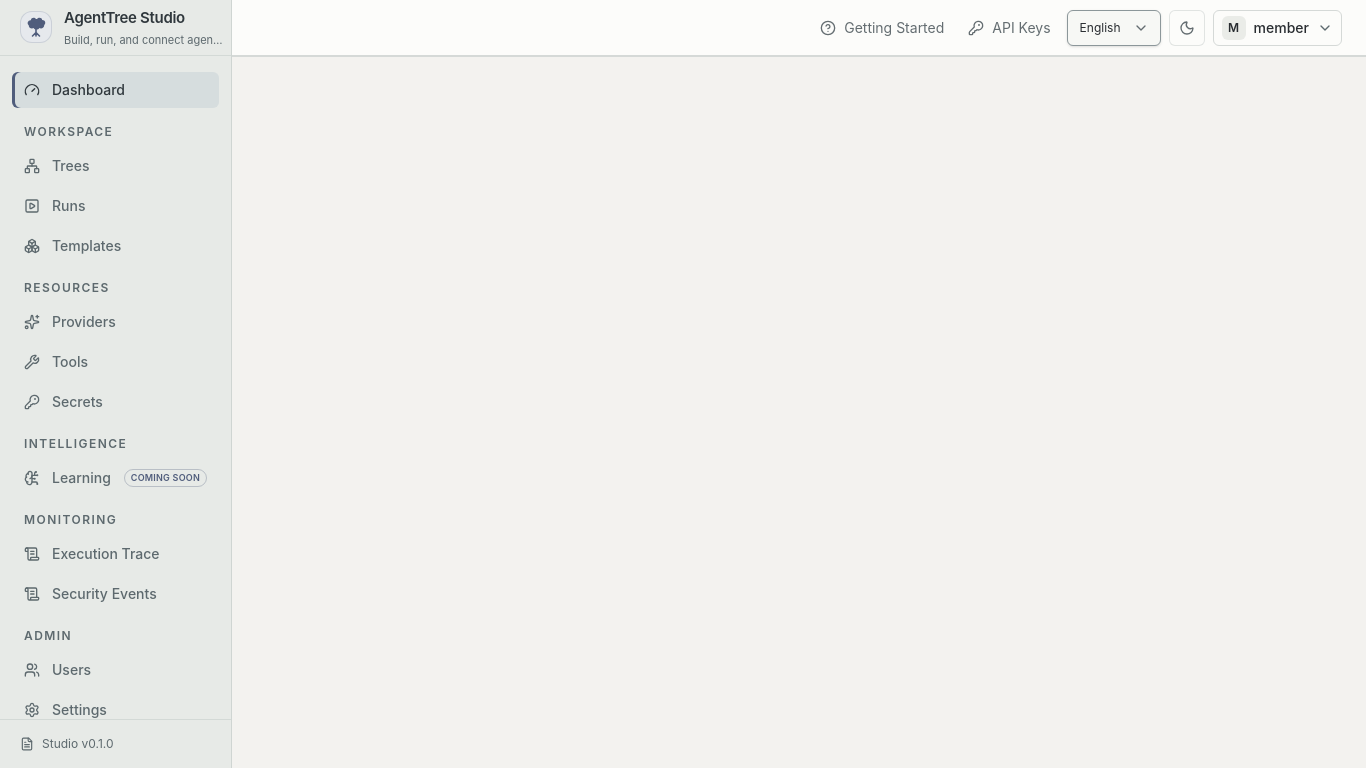
Test: Studio authentication UI › shows Admin navigation and signs out to Login
Check: the text "Studio content" is shown, box [0, 58, 110, 78]
Check: the link "Users" is shown, box [24, 661, 91, 678]
Click the button with aria-label "Account menu" at {"x": 1277, "y": 28}, box [1213, 10, 1342, 46]
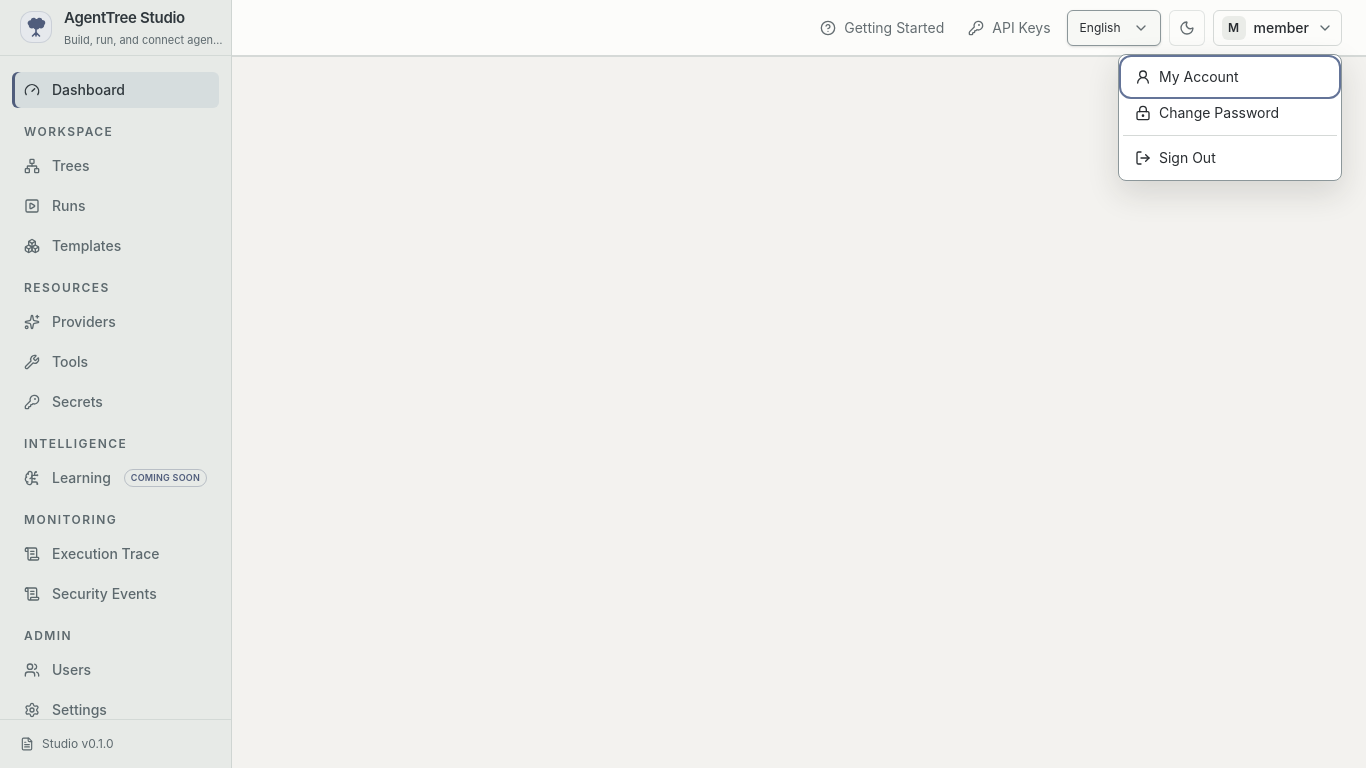
Click the menu item "Sign Out" at {"x": 1230, "y": 158}, box [1123, 140, 1337, 176]
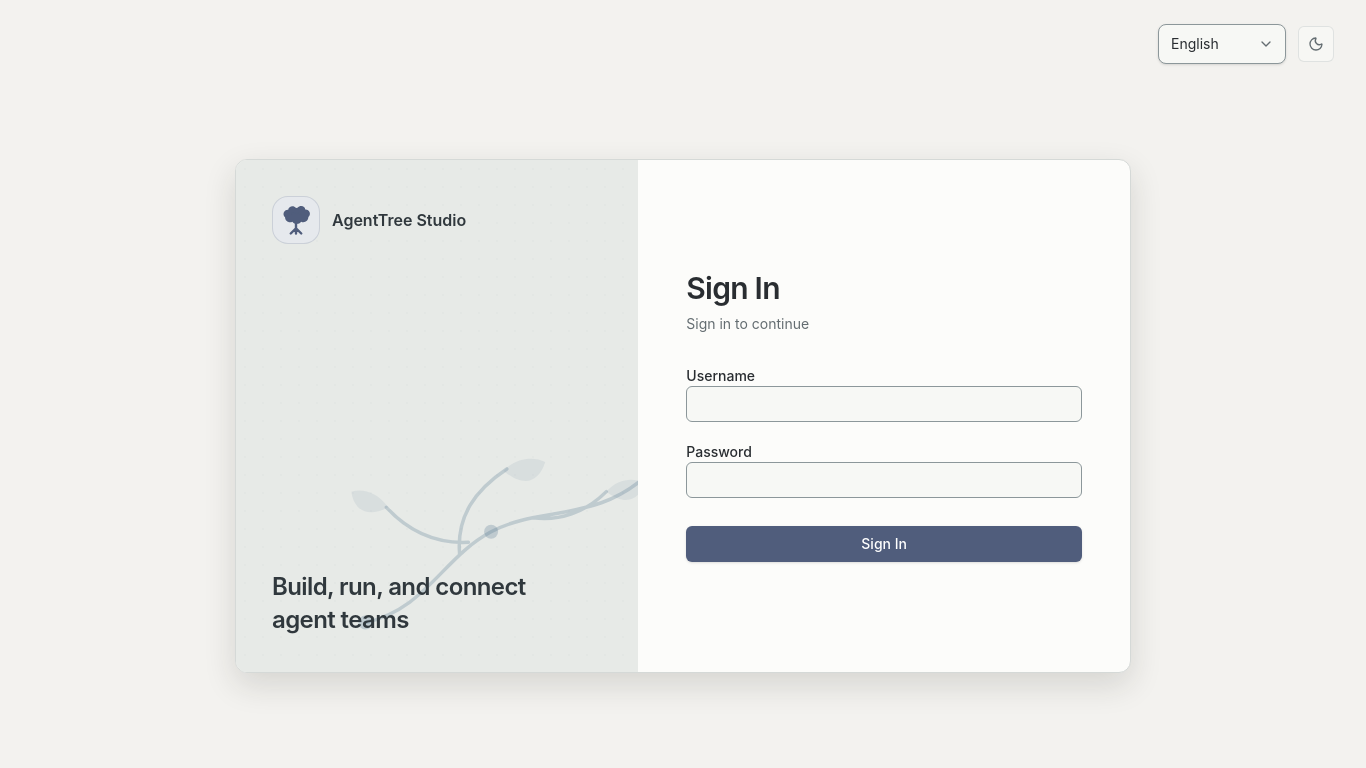
Check: the button "Sign In" is shown, box [686, 526, 1082, 562]
